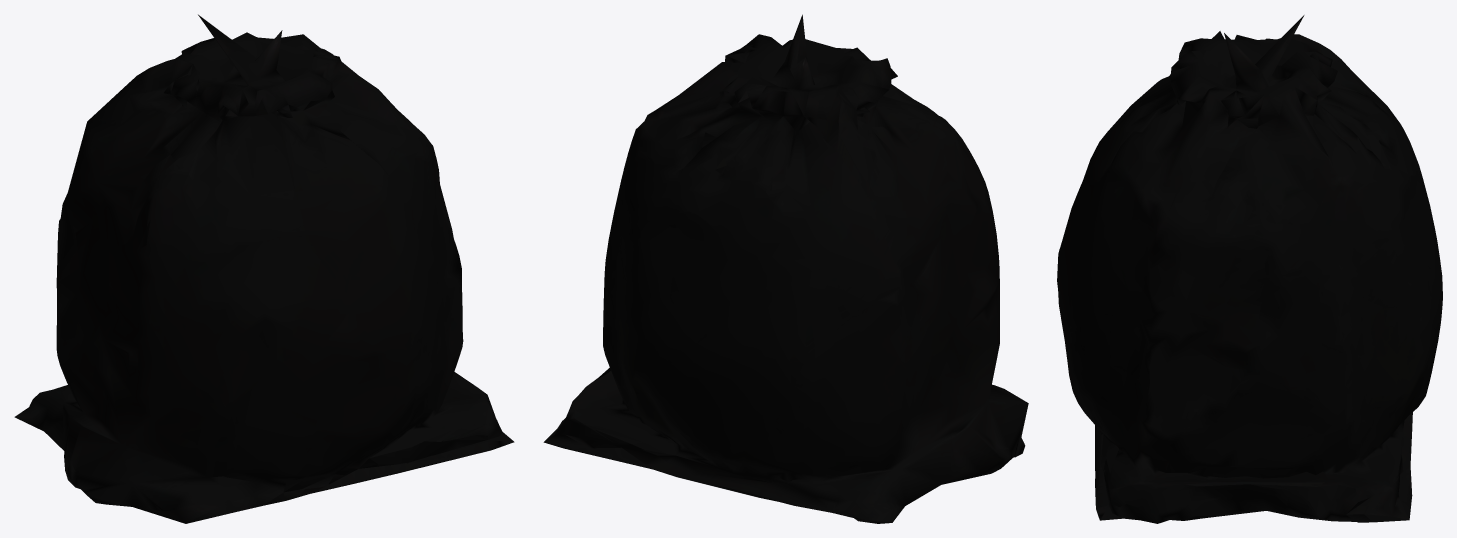
The model's file is trash.glb.
The picture shows the model from 3 angles, left to right: view 1: azimuth 30°, elevation 25°; view 2: azimuth 150°, elevation 25°; view 3: azimuth 270°, elevation 25°; orthographic projection.
Visible parts, largest first — view 1: texture_pbr_v128; view 2: texture_pbr_v128; view 3: texture_pbr_v128.
Boxes of the visible parts, x1,y1,x2,y2 form: texture_pbr_v128: (14, 14, 514, 523); texture_pbr_v128: (543, 14, 1028, 523); texture_pbr_v128: (1057, 15, 1442, 523).
Size of the model in its own units: 0.519 by 0.5258 by 0.4506.
Materials: 1 (1 with a texture image).
